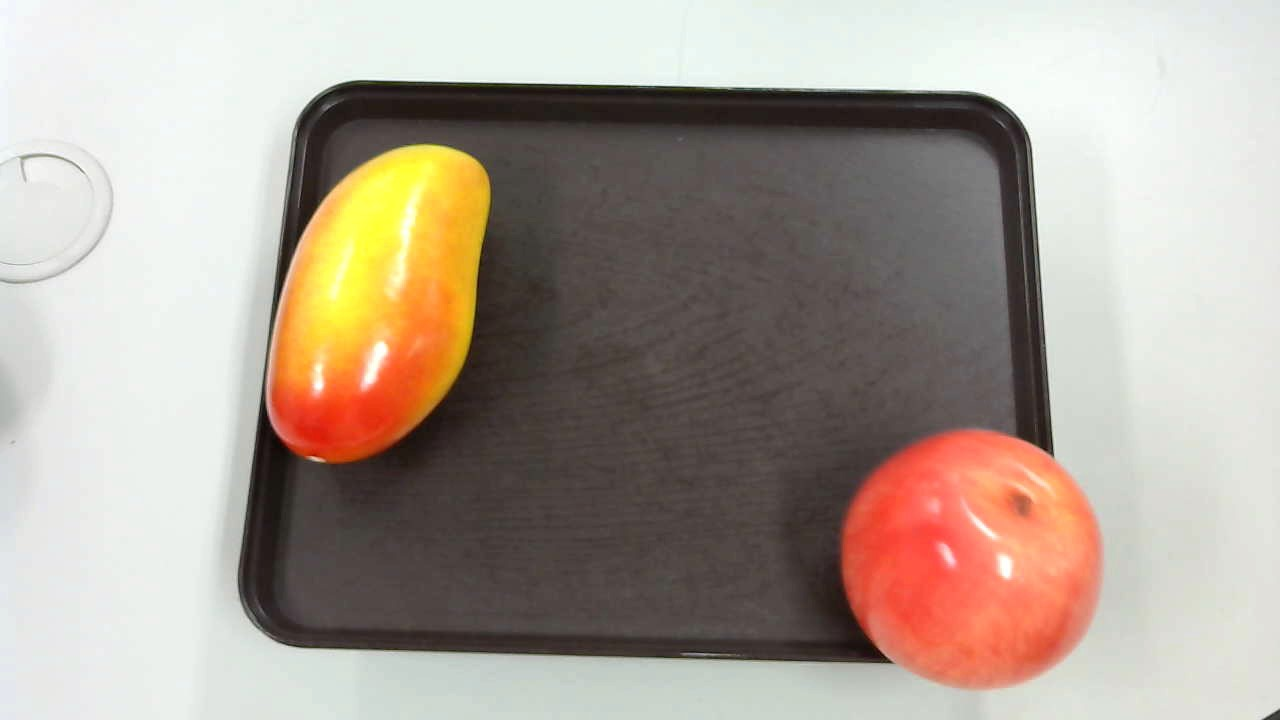red apple: (836, 429, 1109, 696)
red mango: (260, 142, 502, 474)
